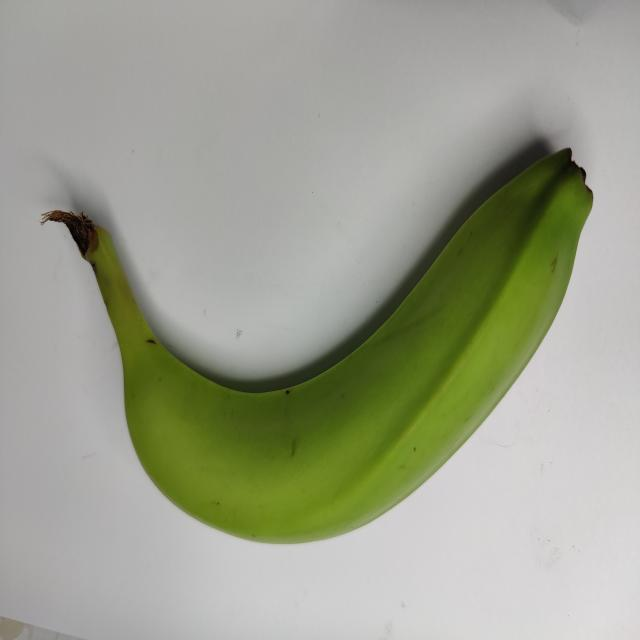raw: (39, 84, 607, 564)
